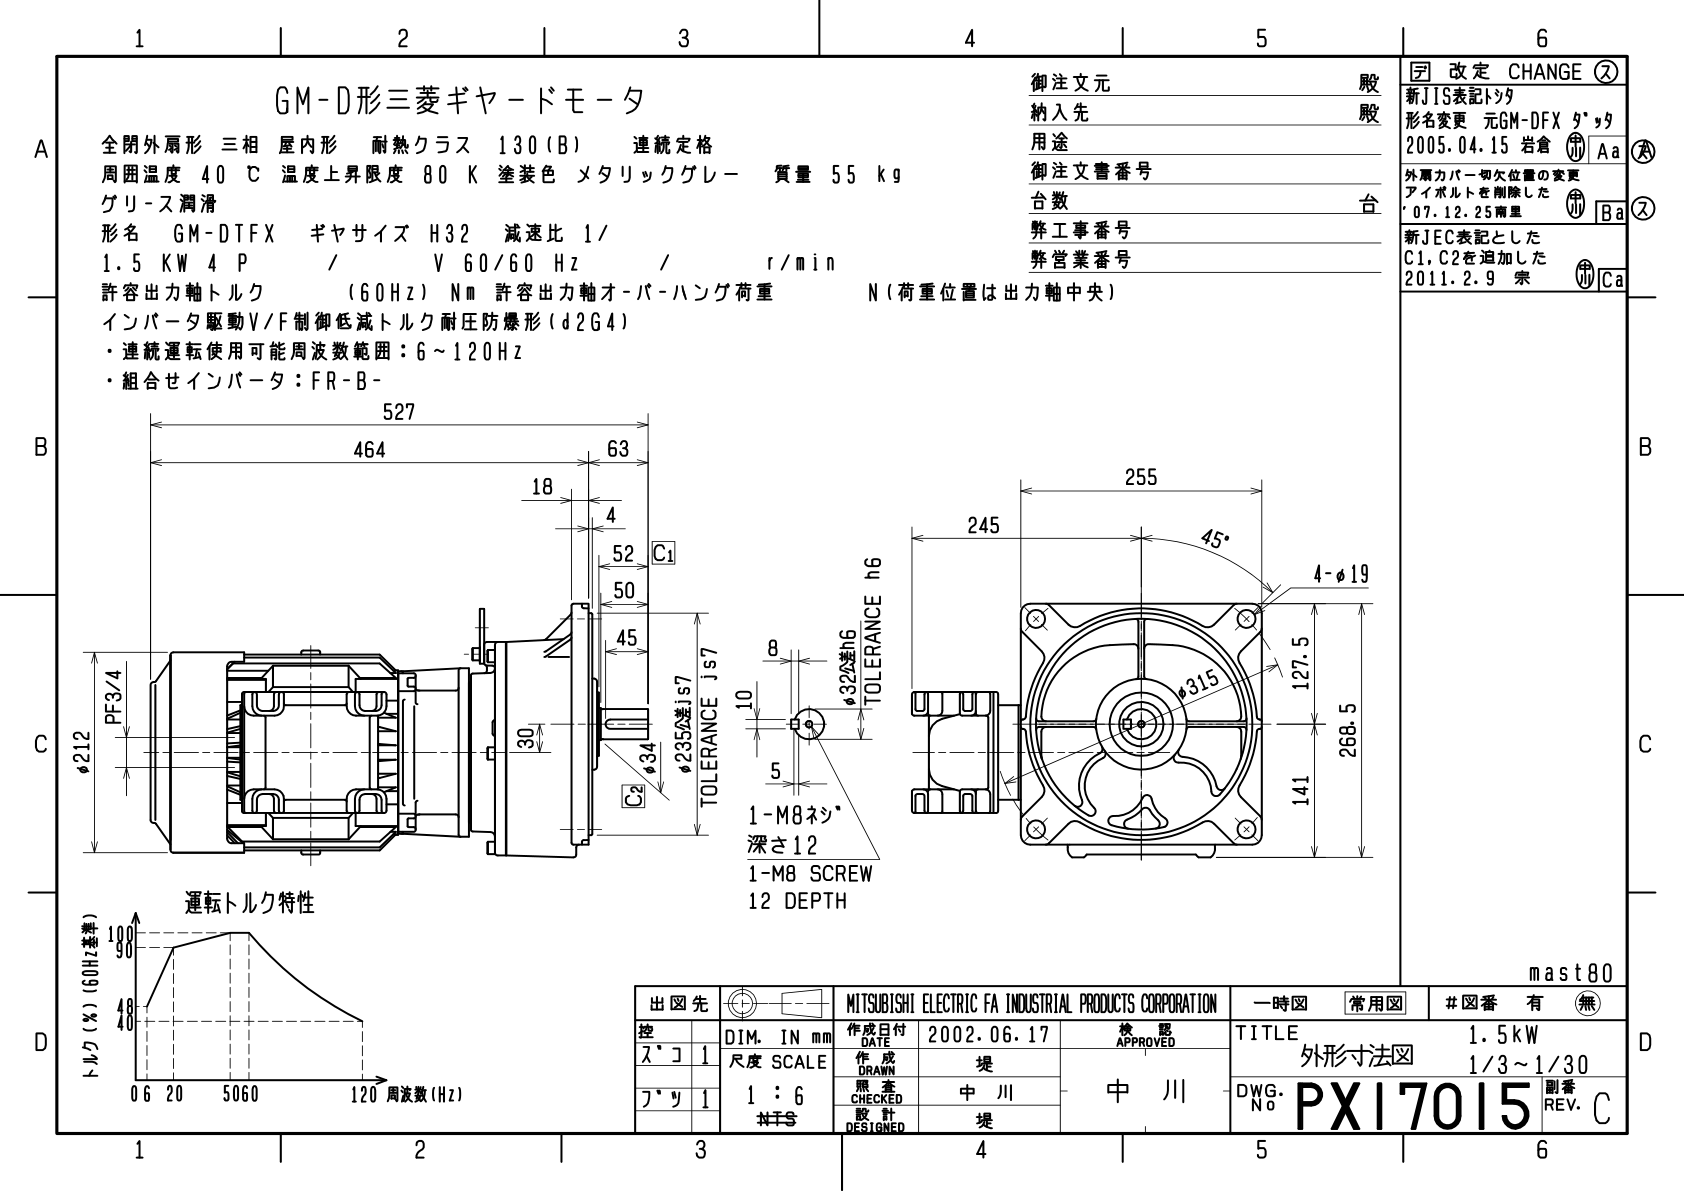GM_D_VF制御屋内_三相_フランジ: (67, 396, 1386, 951)
